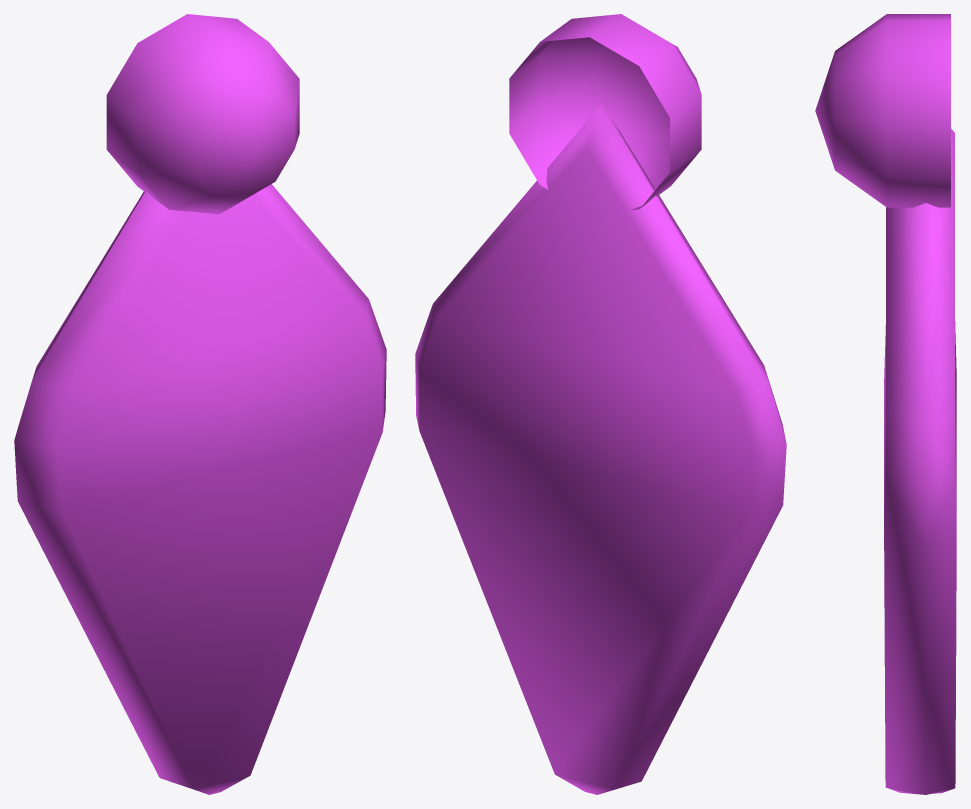
File: Tie.FBX
3 views of the same model, side by side, from view 1: azimuth 30°, elevation 25°; view 2: azimuth 150°, elevation 25°; view 3: azimuth 270°, elevation 25° (orthographic).
Visible parts, largest first — view 1: Corbata; view 2: Corbata; view 3: Corbata.
Boxes of the visible parts, bbox=[...] form: Corbata: bbox=[14, 14, 386, 794]; Corbata: bbox=[415, 14, 786, 794]; Corbata: bbox=[815, 14, 956, 794].
Bounding box in the file's own units: 0.3097 × 0.1012 × 0.6054.
